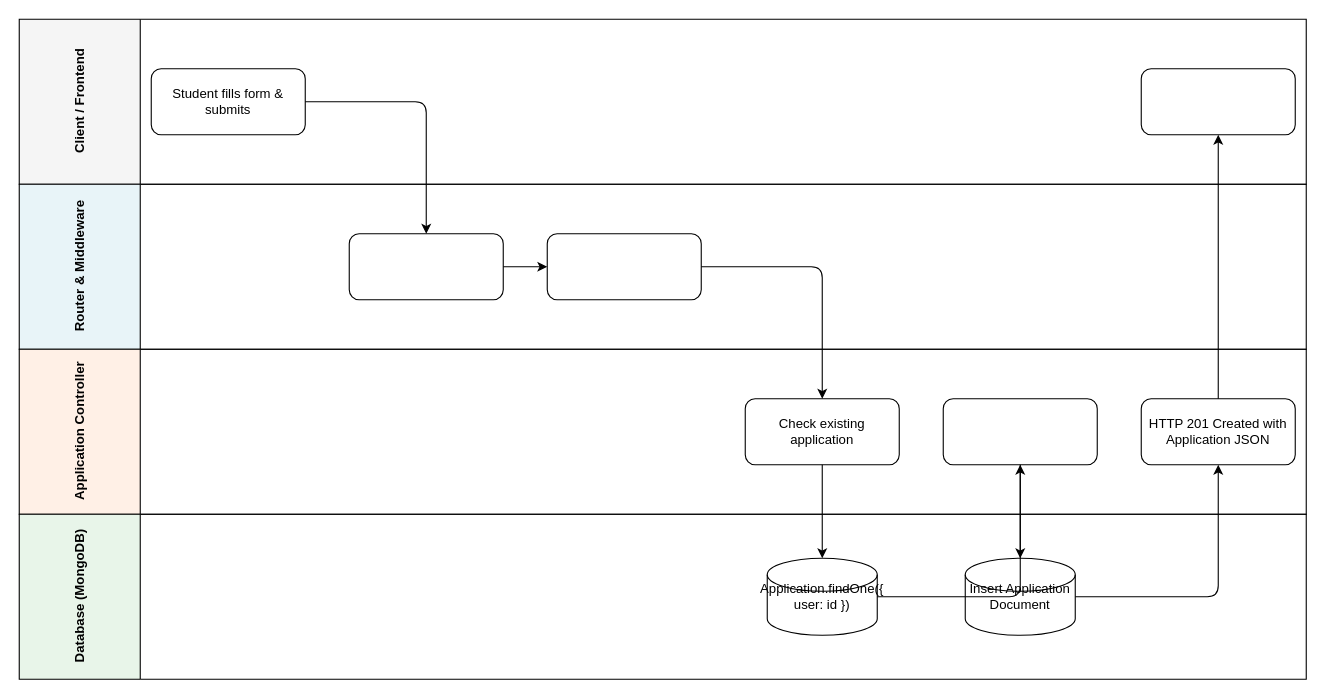
This 1326x699 diagram has some shape labels left out. The centre of each missing label's shape, as x and y in pixels:
Application.create(payload): pixel 1019 431
POST /api/v1/applications/: pixel 425 266
Show Application Pending Status: pixel 1217 101
verifyJWT & Zod Schema Validate: pixel 623 266
